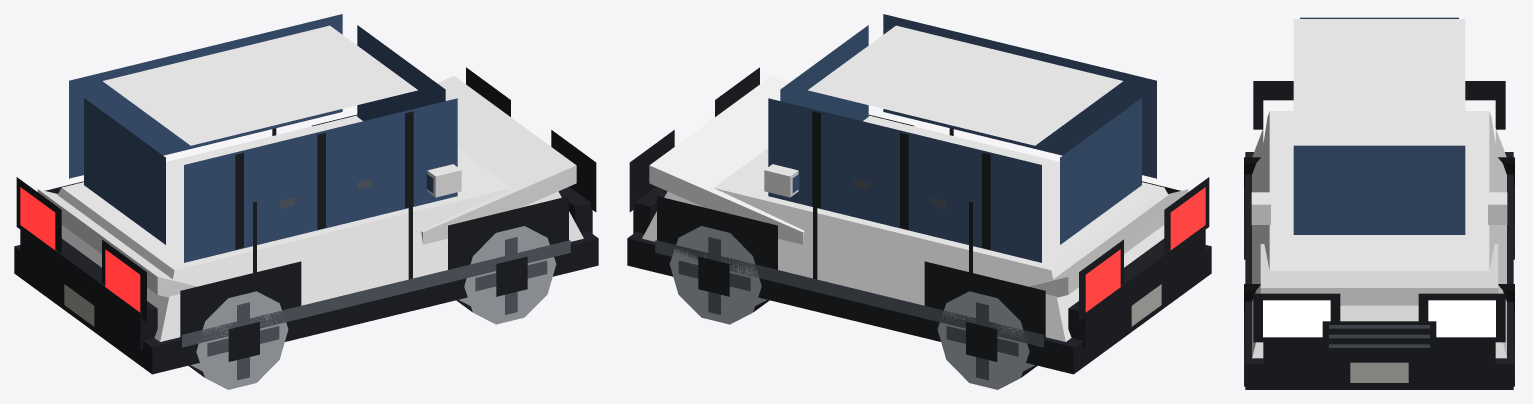
File: car_compact.glb
3 views of the same model, side by side, from view 1: azimuth 30°, elevation 25°; view 2: azimuth 150°, elevation 25°; view 3: azimuth 270°, elevation 25° (orthographic). The views are drawn at different scales.
Visible parts, largest first — view 1: car_compact; view 2: car_compact; view 3: car_compact.
Part boxes in pixels (box(x1,y1,x2,y2)): car_compact: box(14, 14, 598, 389); car_compact: box(627, 14, 1211, 389); car_compact: box(1244, 17, 1514, 389).
Size of the model in its own units: 0.3161 by 0.1514 by 0.1724.
